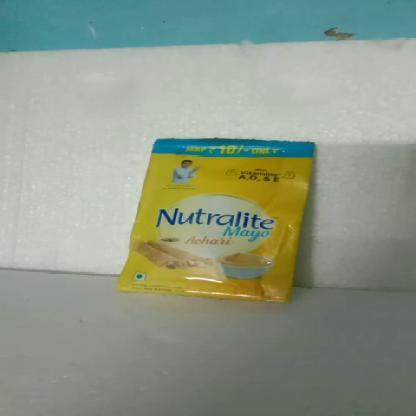Nutralite ACHARI MAYO 30g: (154, 141, 296, 291)
